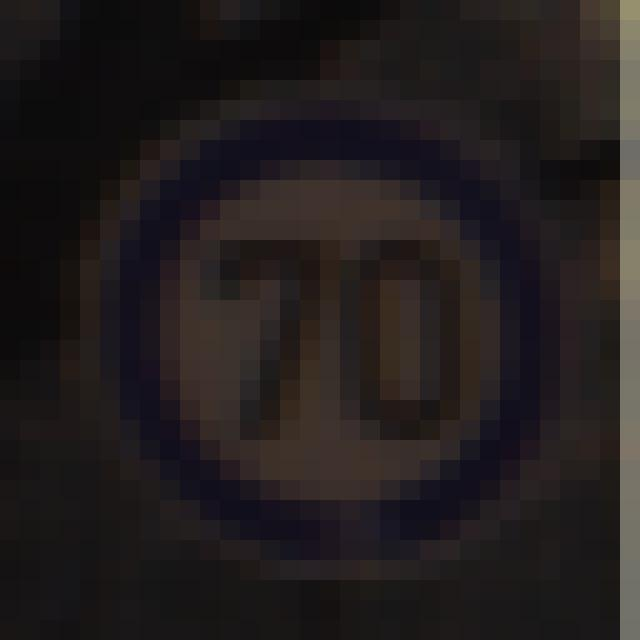SPEED LIMIT 70: (83, 101, 569, 568)
